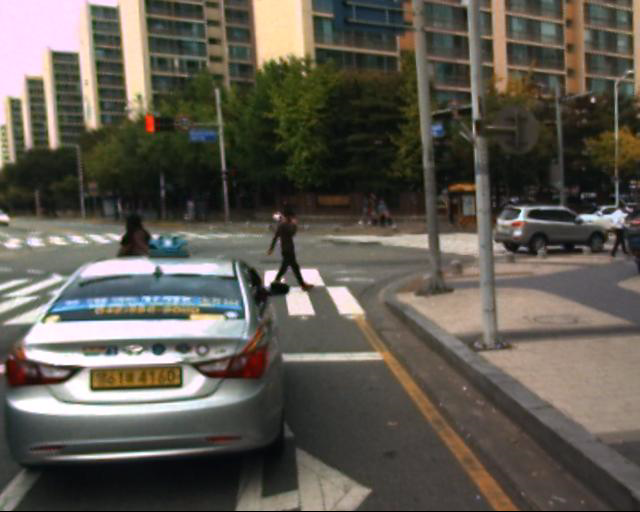person: (112, 200, 171, 348), (258, 209, 313, 295), (596, 203, 635, 266)
